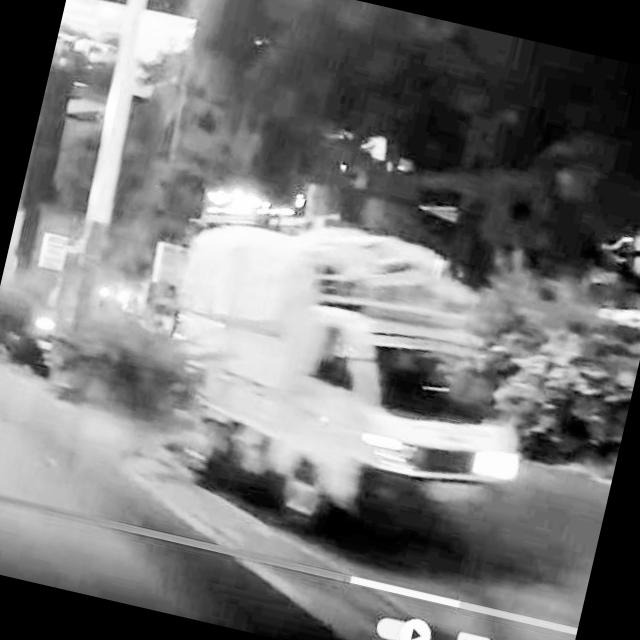Truck: (129, 187, 564, 570)
